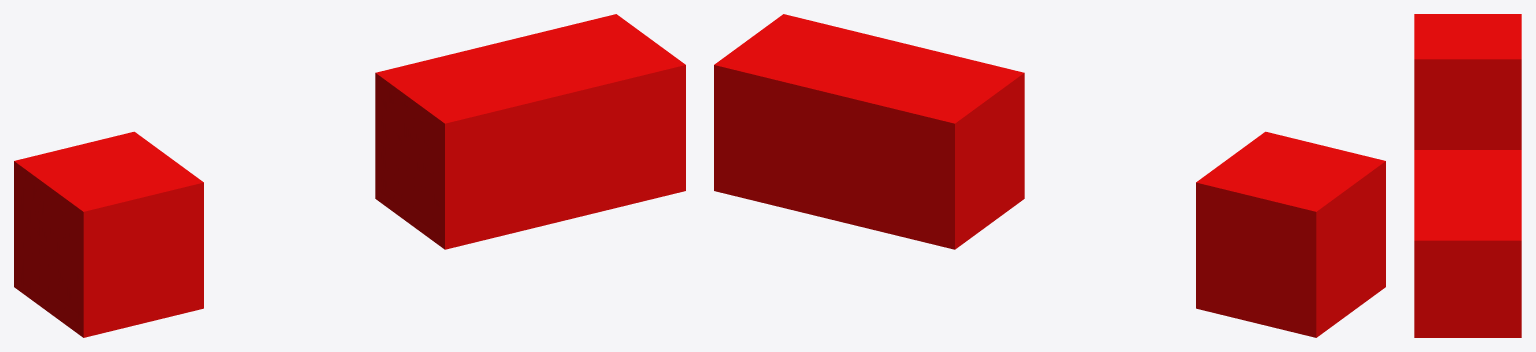
The model's file is dummy_map.dae.
3 views of the same model, side by side, from view 1: azimuth 30°, elevation 25°; view 2: azimuth 150°, elevation 25°; view 3: azimuth 270°, elevation 25° (orthographic). The views are drawn at different scales.
Visible parts, largest first — view 1: obj_001, obj, obj_002; view 2: obj_001, obj, obj_002; view 3: obj_002, obj, obj_001.
Boxes of the visible parts, x1,y1,x2,y2 form: obj_001: [375, 43, 565, 249]; obj: [14, 131, 203, 337]; obj_002: [496, 14, 685, 219]; obj_001: [834, 43, 1024, 249]; obj: [1196, 131, 1385, 337]; obj_002: [714, 14, 903, 219]; obj_002: [1414, 195, 1521, 337]; obj: [1414, 14, 1521, 149]; obj_001: [1414, 150, 1521, 195].
Size of what is drawn, in the model's own units: 50 by 10 by 10.
1 material, 1 textured.
